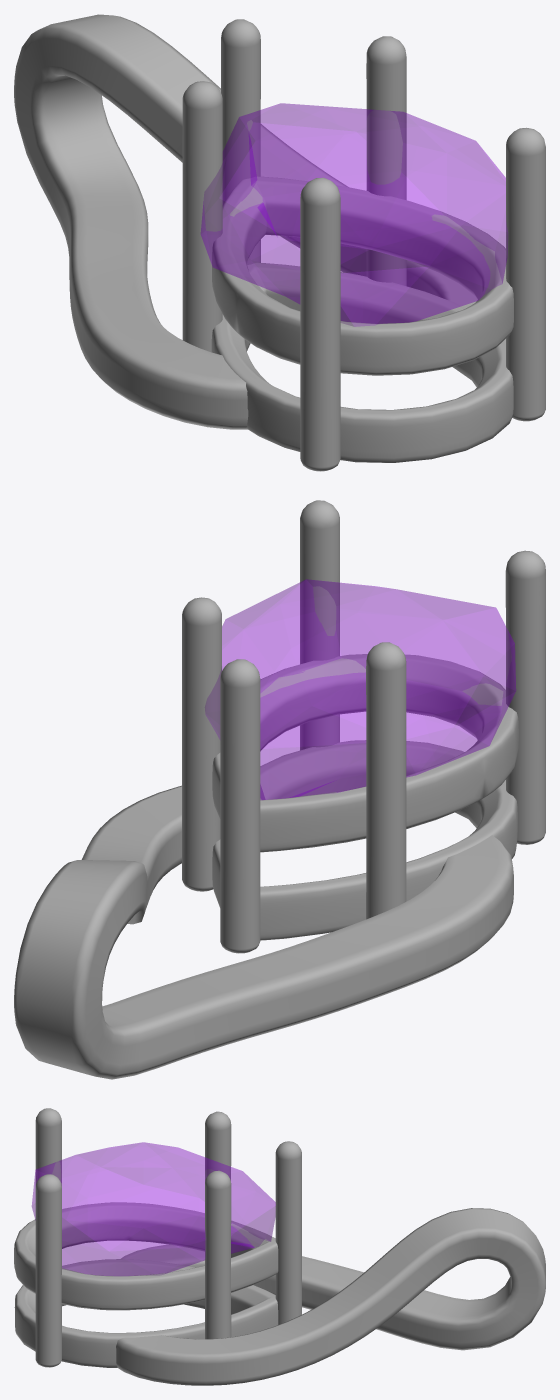
File: earrings.glb
The picture shows the model from 3 angles, top to bottom: view 1: azimuth 30°, elevation 25°; view 2: azimuth 150°, elevation 25°; view 3: azimuth 270°, elevation 25°; orthographic projection. The views are drawn at different scales.
Visible parts, largest first — view 1: Earring, Earring_gem; view 2: Earring, Earring_gem; view 3: Earring, Earring_gem.
Boxes of the visible parts, x1,y1,x2,y2 form: Earring: (14, 14, 545, 471); Earring_gem: (201, 103, 507, 326); Earring: (14, 500, 545, 1079); Earring_gem: (205, 579, 515, 799); Earring: (14, 1108, 545, 1385); Earring_gem: (32, 1142, 275, 1275).
Bounding box in the file's own units: 2.43 × 1.94 × 4.62.
